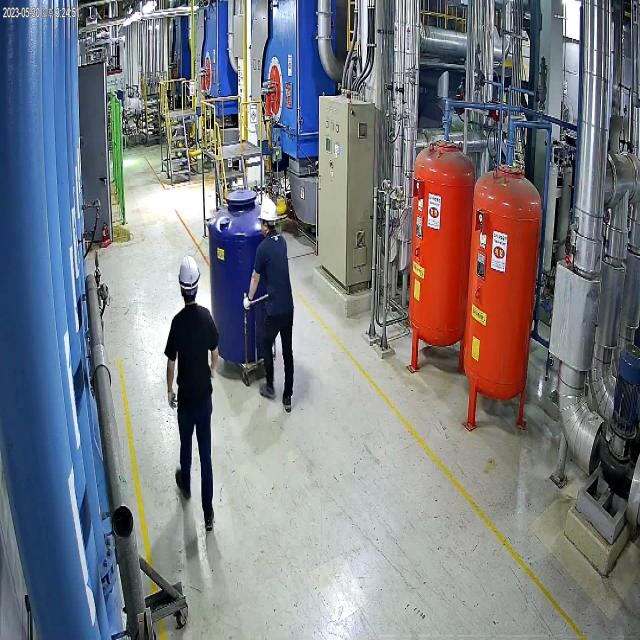Water Tank: (204, 179, 281, 386)
worker: (155, 252, 229, 536), (241, 192, 298, 414)
